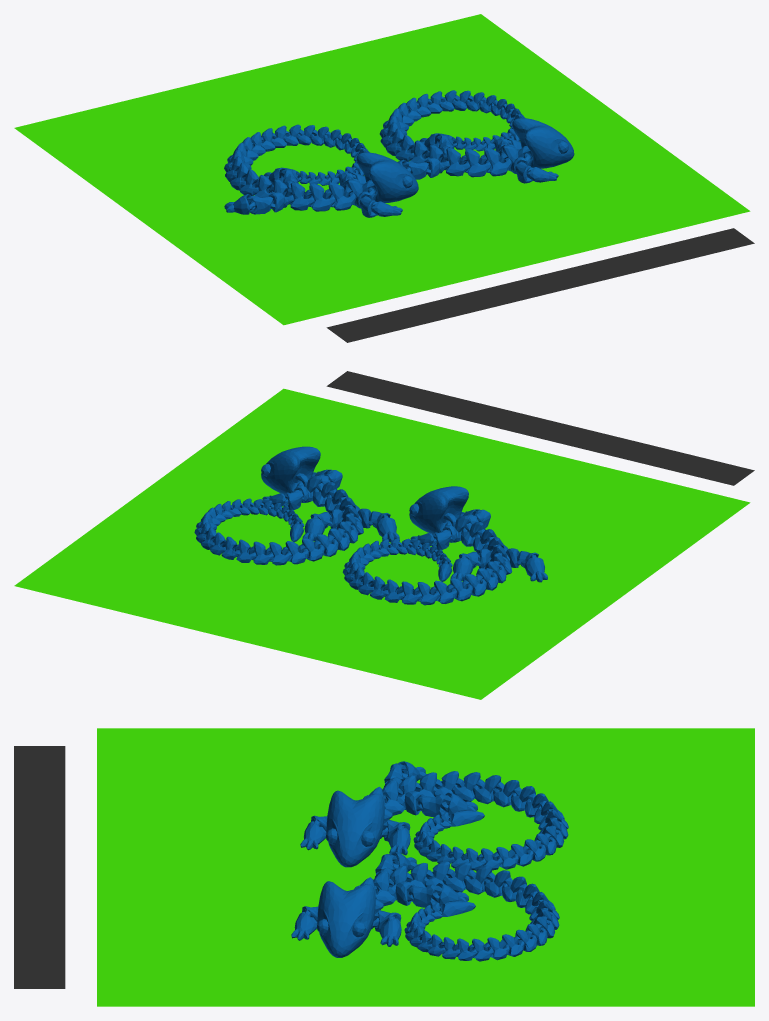
Rendered from BabyGecko_X2.glb.
The picture shows the model from 3 angles, top to bottom: view 1: azimuth 30°, elevation 25°; view 2: azimuth 150°, elevation 25°; view 3: azimuth 270°, elevation 25°; orthographic projection. The views are drawn at different scales.
Visible parts, largest first — view 1: Plane, DRAGON_001.002, DRAGON_001.001, Plane.001; view 2: Plane, DRAGON_001.002, DRAGON_001.001, Plane.001; view 3: Plane, DRAGON_001.001, DRAGON_001.002, Plane.001.
Part boxes in pixels (x1,y1,x2,y2): Plane: [14, 14, 750, 325]; DRAGON_001.002: [224, 124, 418, 217]; DRAGON_001.001: [379, 90, 574, 183]; Plane.001: [326, 228, 754, 342]; Plane: [14, 388, 750, 699]; DRAGON_001.002: [342, 486, 547, 605]; DRAGON_001.001: [194, 446, 399, 565]; Plane.001: [326, 371, 754, 485]; Plane: [97, 728, 754, 1006]; DRAGON_001.001: [291, 851, 559, 961]; DRAGON_001.002: [300, 761, 568, 870]; Plane.001: [14, 746, 65, 988].
Bounding box in the file's own units: 0.22 × 0.0187 × 0.2477.
